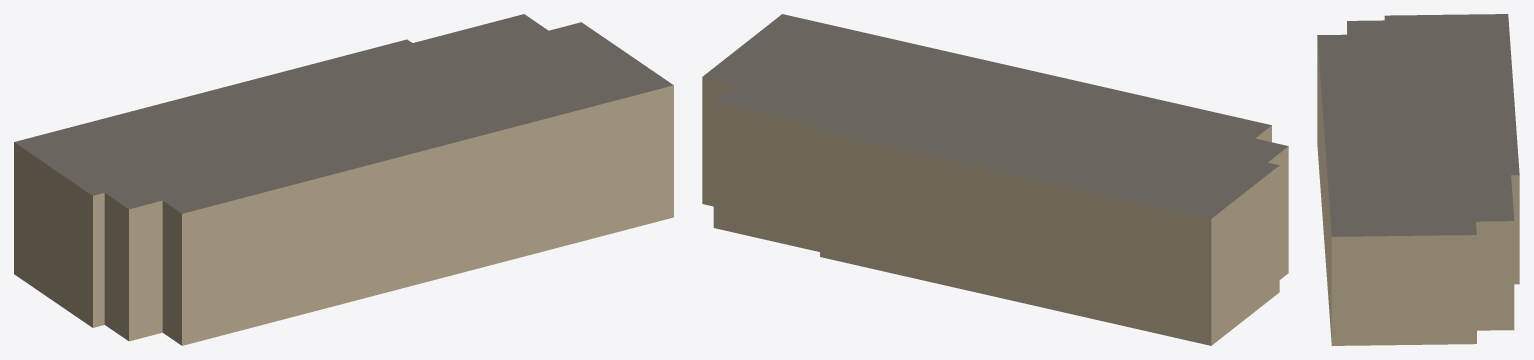
3 views of the same model, side by side, from view 1: azimuth 30°, elevation 25°; view 2: azimuth 150°, elevation 25°; view 3: azimuth 270°, elevation 25° (orthographic). The views are drawn at different scales.
Parts seen in each view (by area): view 1: HP-w1511175635; view 2: HP-w1511175635; view 3: HP-w1511175635.
Part boxes in pixels (x1=…): HP-w1511175635: x1=14, y1=14, x2=673, y2=345; HP-w1511175635: x1=702, y1=14, x2=1288, y2=345; HP-w1511175635: x1=1317, y1=14, x2=1519, y2=345.
Size of the model in its own units: 57.83 by 13.2 by 22.19.
